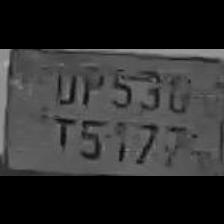1: (106, 114, 130, 162)
3: (134, 62, 162, 112)
5: (105, 61, 135, 108), (74, 111, 104, 158)
7: (129, 114, 157, 164), (158, 120, 184, 166)
P: (75, 61, 105, 107)
T: (48, 108, 76, 154)
U: (50, 61, 78, 105)
